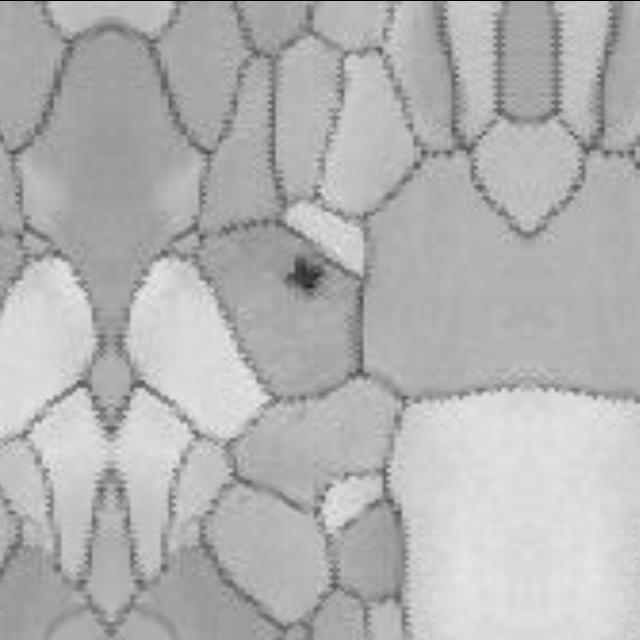good_void: (277, 245, 335, 302)
